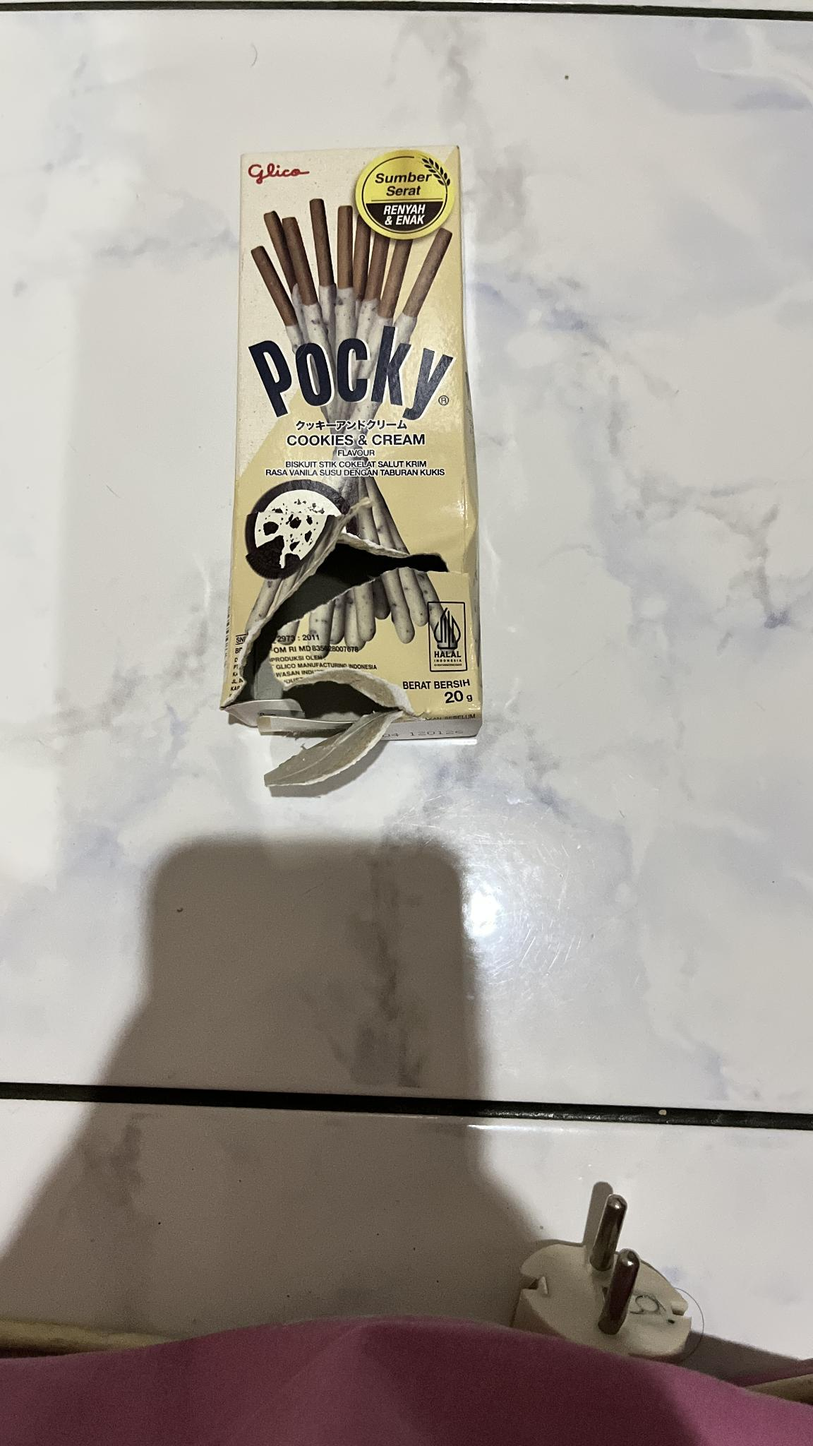Kertas: (219, 143, 484, 724)
